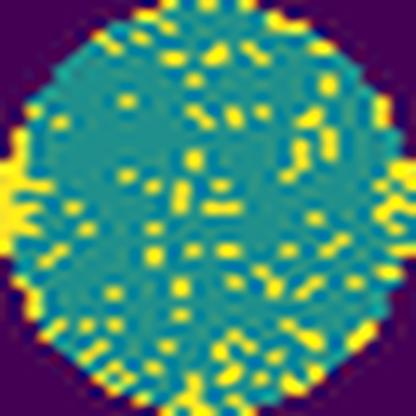Edge-Loc: (0, 118, 50, 262)
